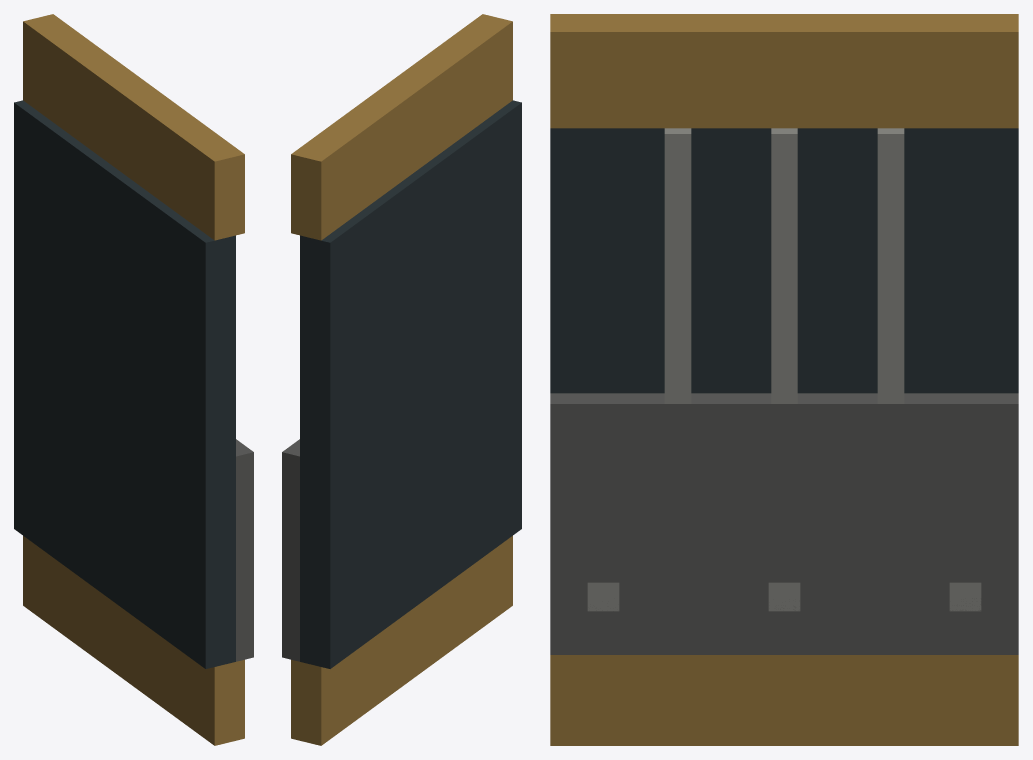
Rendered from cab_back.glb.
3 views of the same model, side by side, from view 1: azimuth 30°, elevation 25°; view 2: azimuth 150°, elevation 25°; view 3: azimuth 270°, elevation 25° (orthographic). The views are drawn at different scales.
Parts seen in each view (by area): view 1: cab_back; view 2: cab_back; view 3: cab_back.
Part boxes in pixels (x1,y1,x2,y2): cab_back: [14, 14, 253, 745]; cab_back: [282, 14, 521, 745]; cab_back: [550, 14, 1018, 745].
Bounding box in the file's own units: 0.064 × 0.74 × 0.44.
